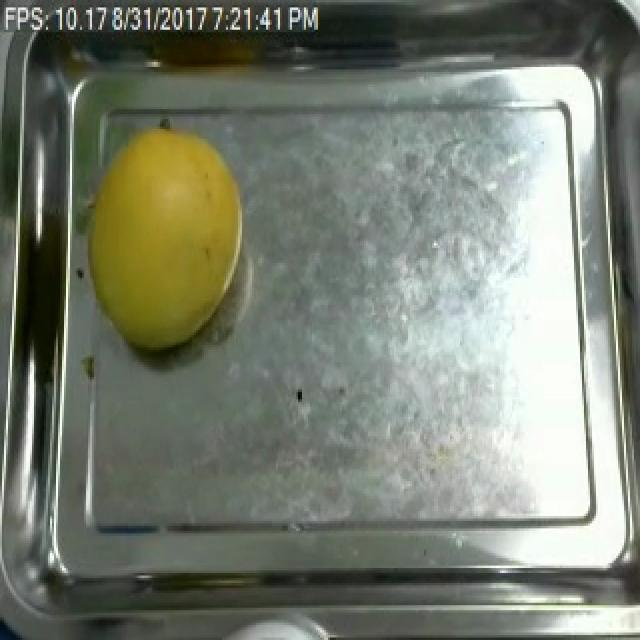fruit: (72, 112, 258, 372)
